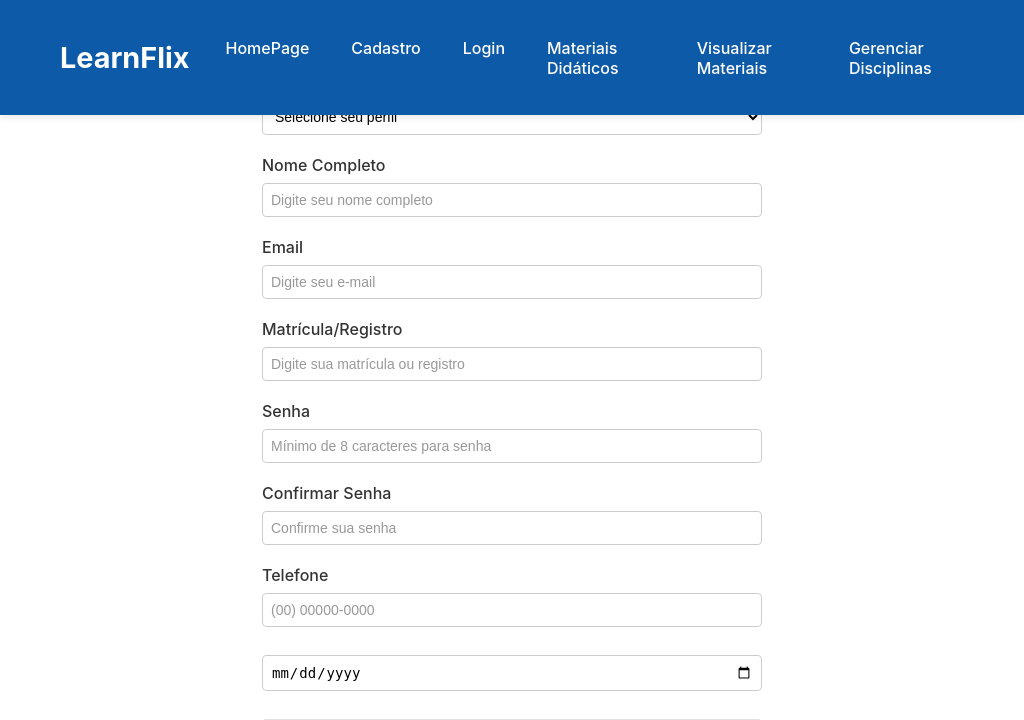
Test: Formulário de Cadastro › Deve exibir erro ao digitar telefone sem formatação correta
(page scrolled)
Type "00999998888" into the field with test id "input-telefone" at (512, 610), box [262,593,762,627]
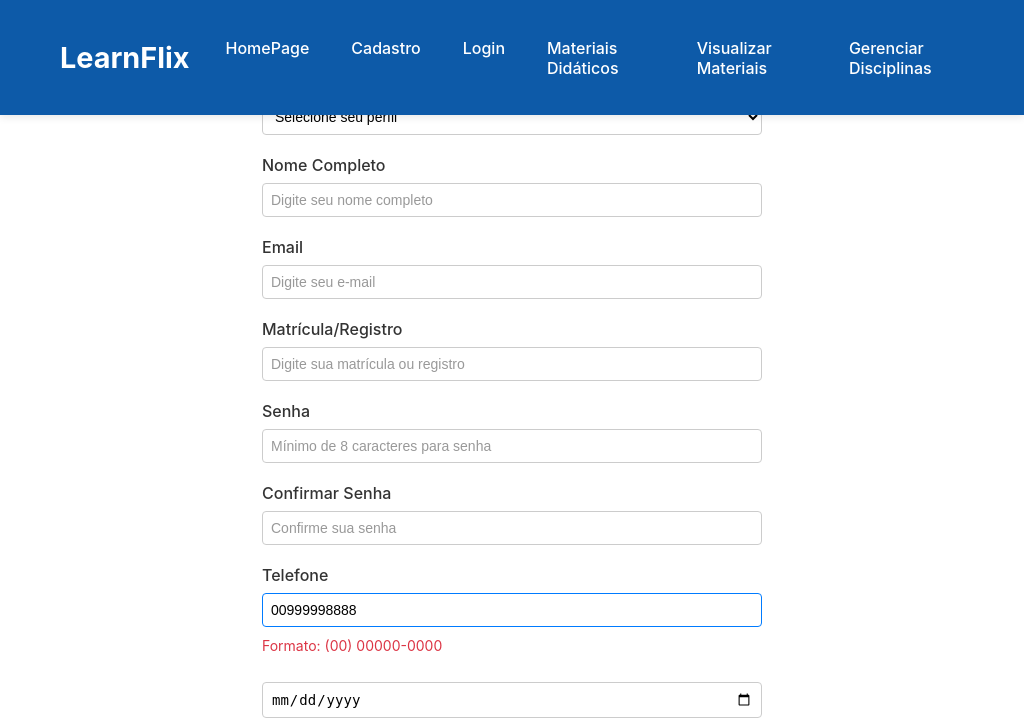
expect the text "Formato: (00) 00000-0000" is shown: met, box [262,637,442,654]
